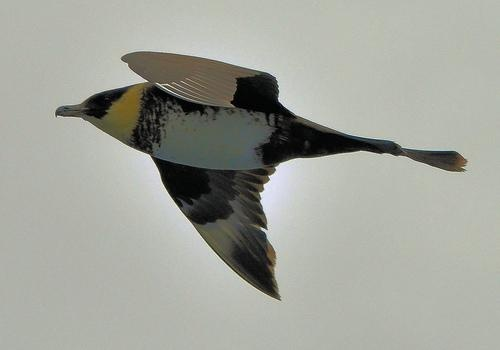bird: (54, 51, 468, 302)
